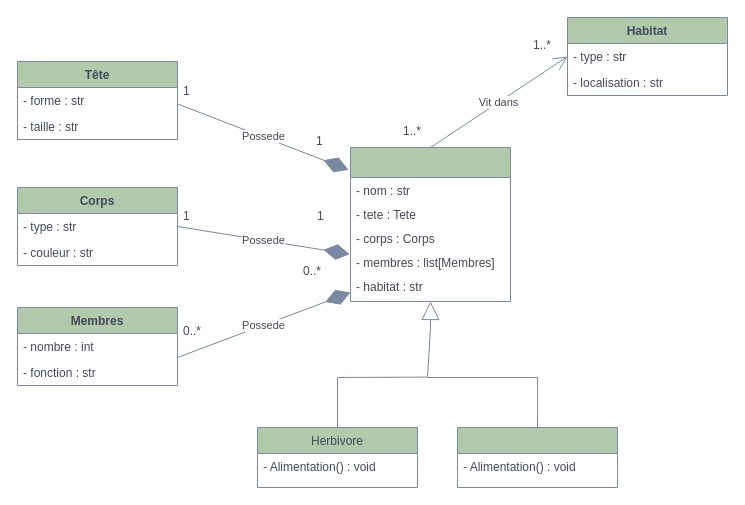
Some shapes in this 745 by 505 pixel diagram are drawn without their labels. Each missing label, with the box of its shape:
Animaux: (350, 146, 510, 302)
Carnivore: (456, 426, 618, 488)
